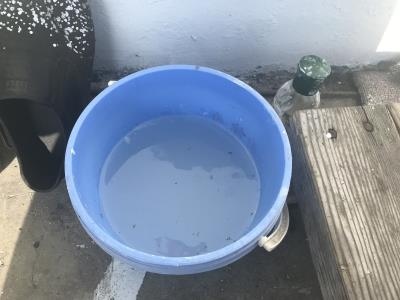bottle: (271, 52, 332, 135)
bucket: (59, 63, 297, 278)
